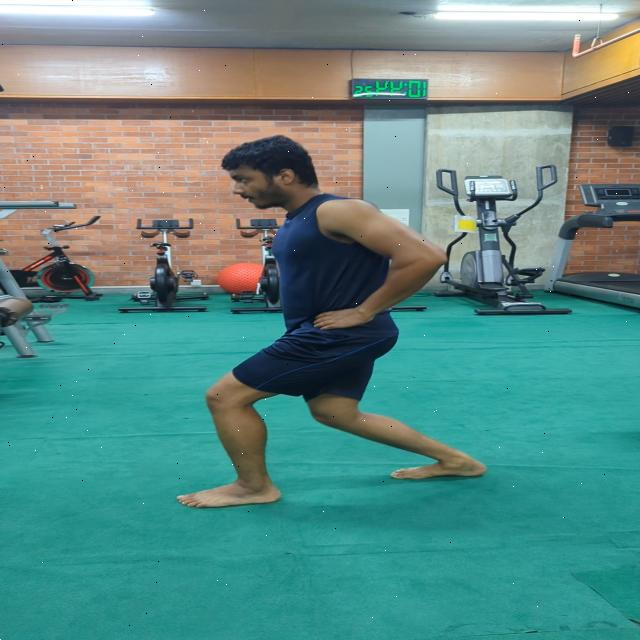Normal_Lunges: (166, 132, 492, 520)
